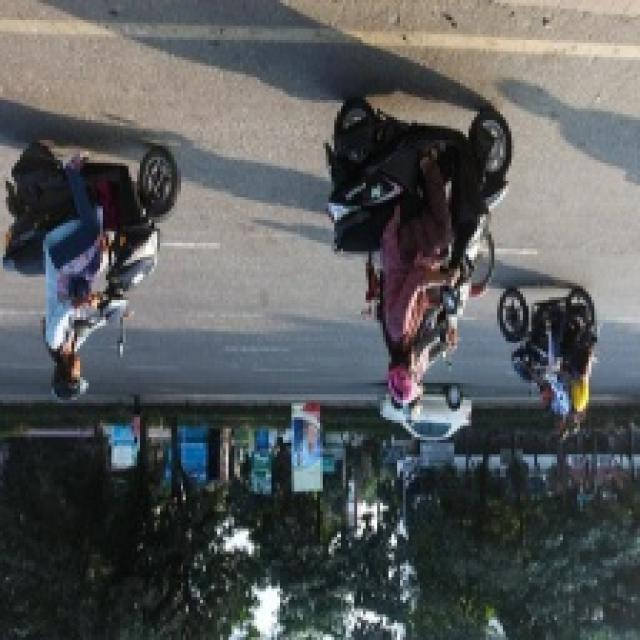bike: (327, 107, 516, 317), (7, 152, 182, 326), (505, 281, 599, 387)
car: (383, 384, 472, 457)
